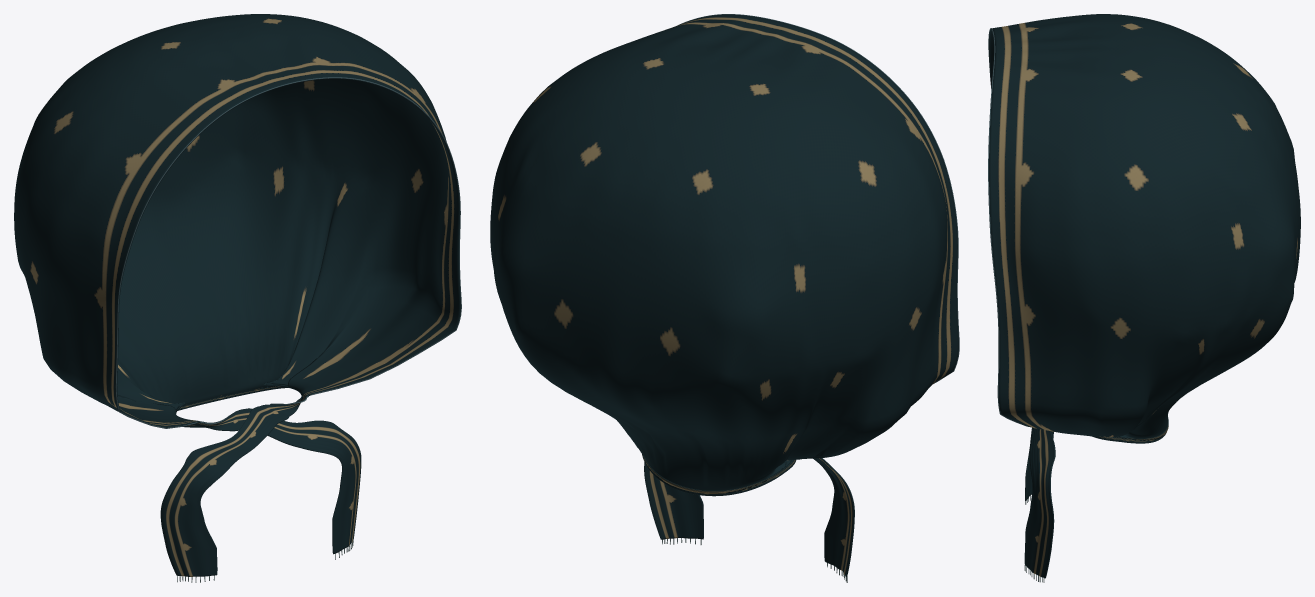
Rendered from Masculine-middle-part-jersey-pashmina249-headgear.glb.
The picture shows the model from 3 angles, left to right: view 1: azimuth 30°, elevation 25°; view 2: azimuth 150°, elevation 25°; view 3: azimuth 270°, elevation 25°; orthographic projection. The views are drawn at different scales.
Parts seen in each view (by area): view 1: 226 headgear / Headwear / continuous woven pashmina239, 226 headgear / Headwear / face edge239; view 2: 226 headgear / Headwear / continuous woven pashmina239, 226 headgear / Headwear / face edge239; view 3: 226 headgear / Headwear / continuous woven pashmina239, 226 headgear / Headwear / face edge239.
Boxes of the visible parts, x1,y1,x2,y2 form: 226 headgear / Headwear / continuous woven pashmina239: (14, 14, 460, 576); 226 headgear / Headwear / face edge239: (115, 77, 461, 428); 226 headgear / Headwear / continuous woven pashmina239: (490, 14, 958, 576); 226 headgear / Headwear / face edge239: (678, 14, 959, 383); 226 headgear / Headwear / continuous woven pashmina239: (989, 14, 1300, 578); 226 headgear / Headwear / face edge239: (988, 28, 1030, 427).
Size of the model in its own units: 1.12 by 1.39 by 0.7917.
Materials: 3 (1 with a texture image).
